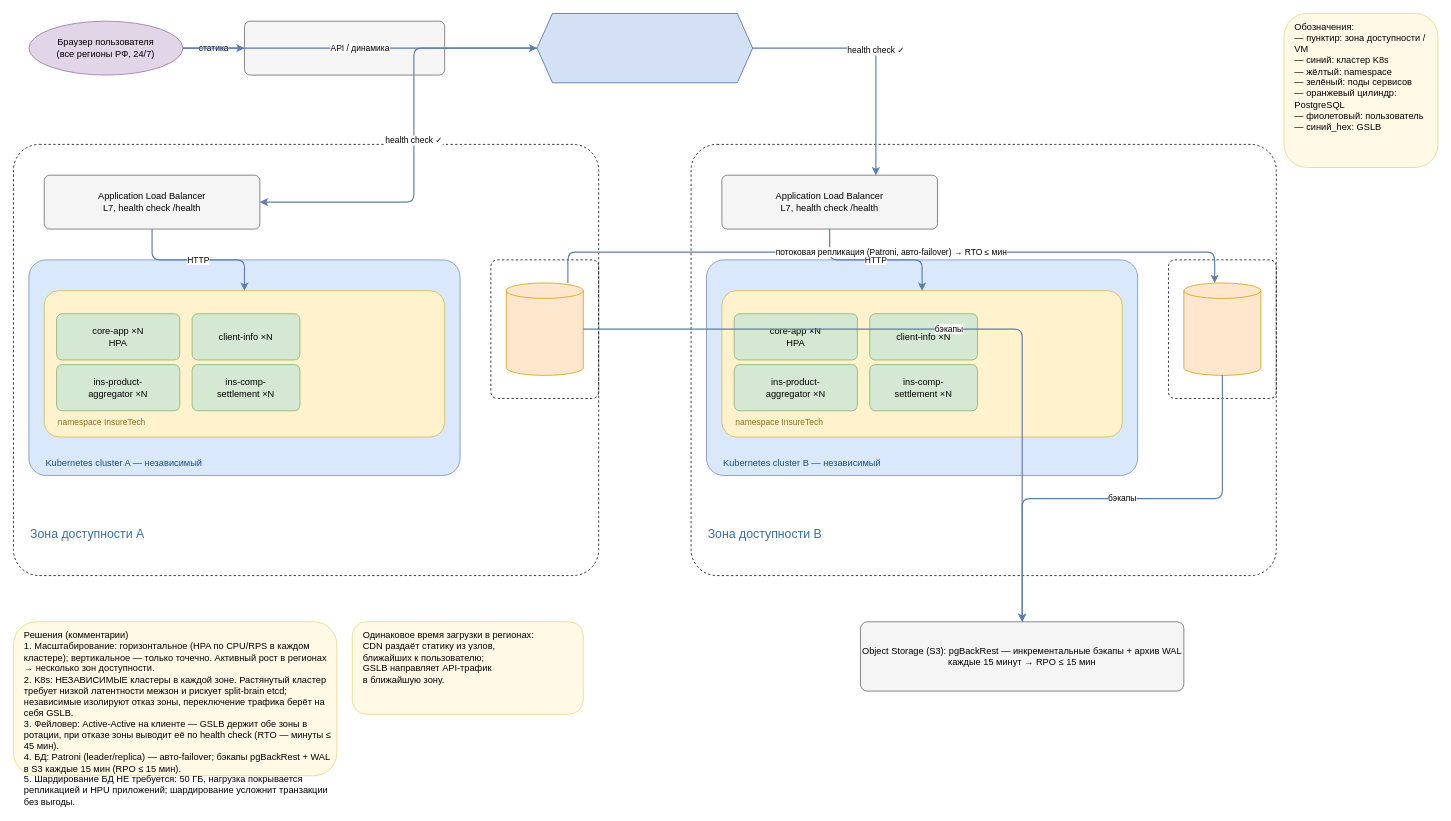
Some shapes in this 1451 by 821 pixel diagram are drawn without their labels. The shapes that lost their labels are listed below. From the top down, each one's box as (x1, y1, x2, y2) in pixels, then its label:
(244, 20, 445, 75): CDN + Object Storage статика веб-приложения (ближе к пользователю)
(536, 13, 753, 83): GSLB / Cloud DNS маршрутизация к ближайшей зоне, health check обеих площадок
(506, 282, 583, 375): PostgreSQL Patroni leader
(1183, 282, 1261, 375): PostgreSQL Patroni replica
